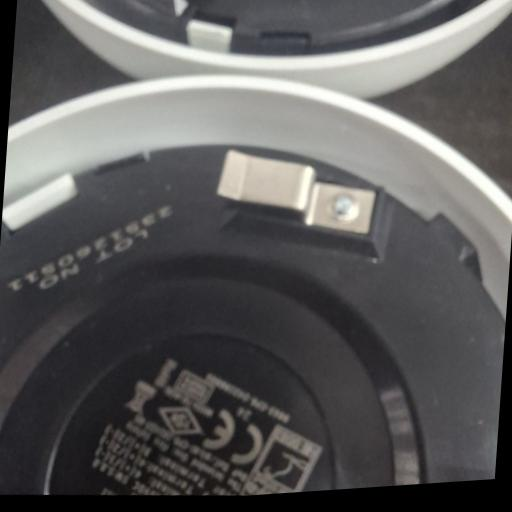yaysiz: (214, 139, 380, 246)
